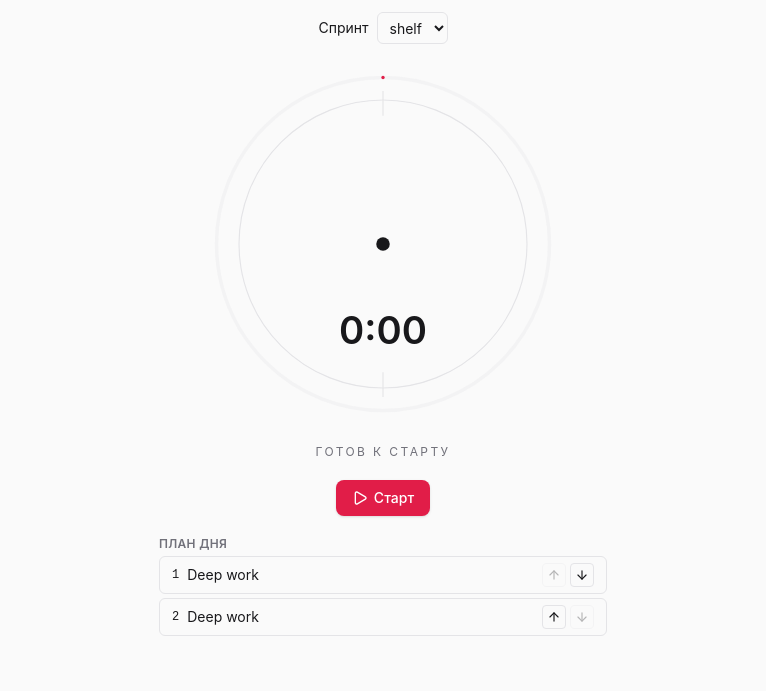
Test: FocusScreen › explains a refused start in the user's language (author's law 23.09)
This screenshot has width=766, height=691.
Click the button with test id "dial.start-button" at (383, 498), box top-left (336, 480), bottom-right (430, 516)
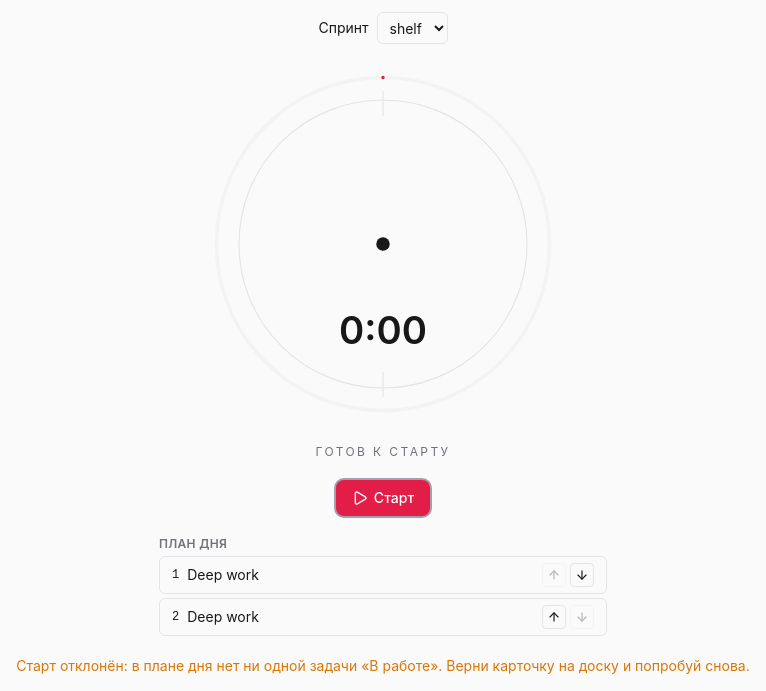
Now the text with test id "dial.start-blocked" shows "нет ни одной задачи «В работе»", box top-left (16, 657), bottom-right (750, 674)
